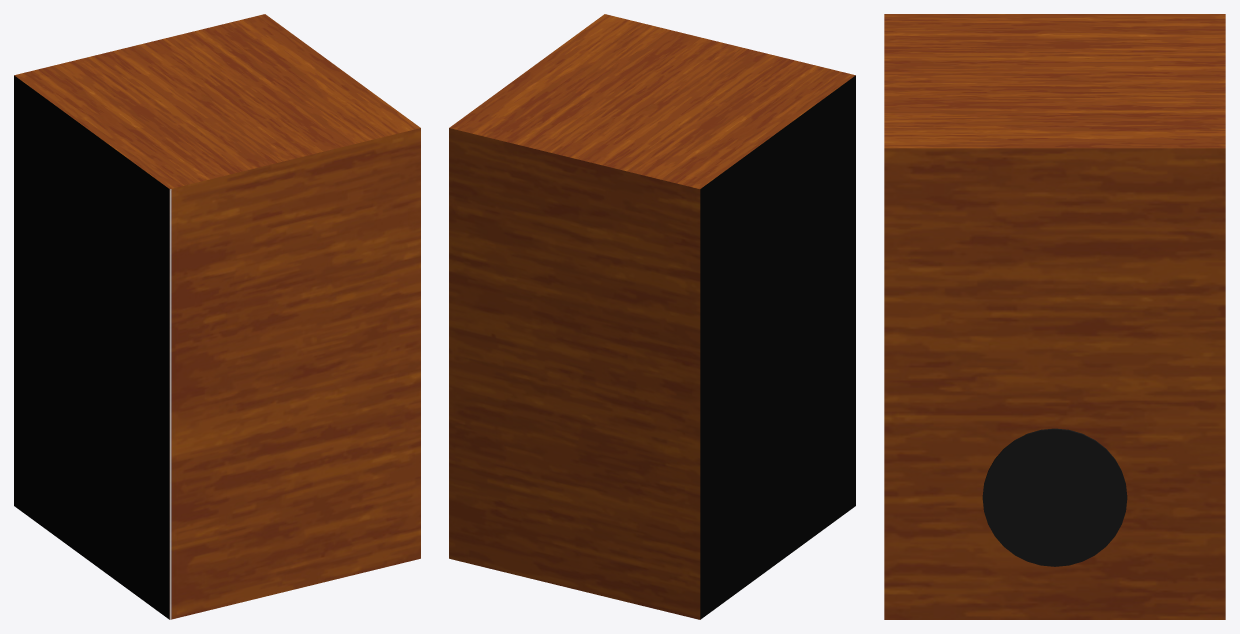
File: cajon.fbx
3 renders of one model, left to right at view 1: azimuth 30°, elevation 25°; view 2: azimuth 150°, elevation 25°; view 3: azimuth 270°, elevation 25°, orthographic. The views are drawn at different scales.
Parts seen in each view (by area): view 1: Cube, Cube.001; view 2: Cube, Cube.001; view 3: Cube, Cylinder.
Boxes of the visible parts, left/top/right/bottom form: Cube: left=14, top=14, right=420, bottom=619; Cube.001: left=14, top=75, right=169, bottom=619; Cube: left=449, top=14, right=855, bottom=619; Cube.001: left=700, top=75, right=855, bottom=619; Cube: left=884, top=14, right=1225, bottom=619; Cylinder: left=982, top=428, right=1127, bottom=566.
Size of the model in its own units: 37.6 by 61.18 by 40.1.
